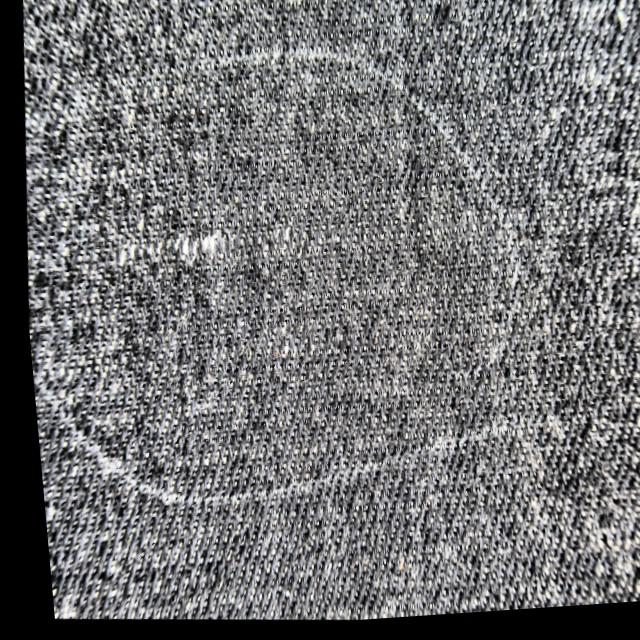Hole: (99, 209, 226, 276)
